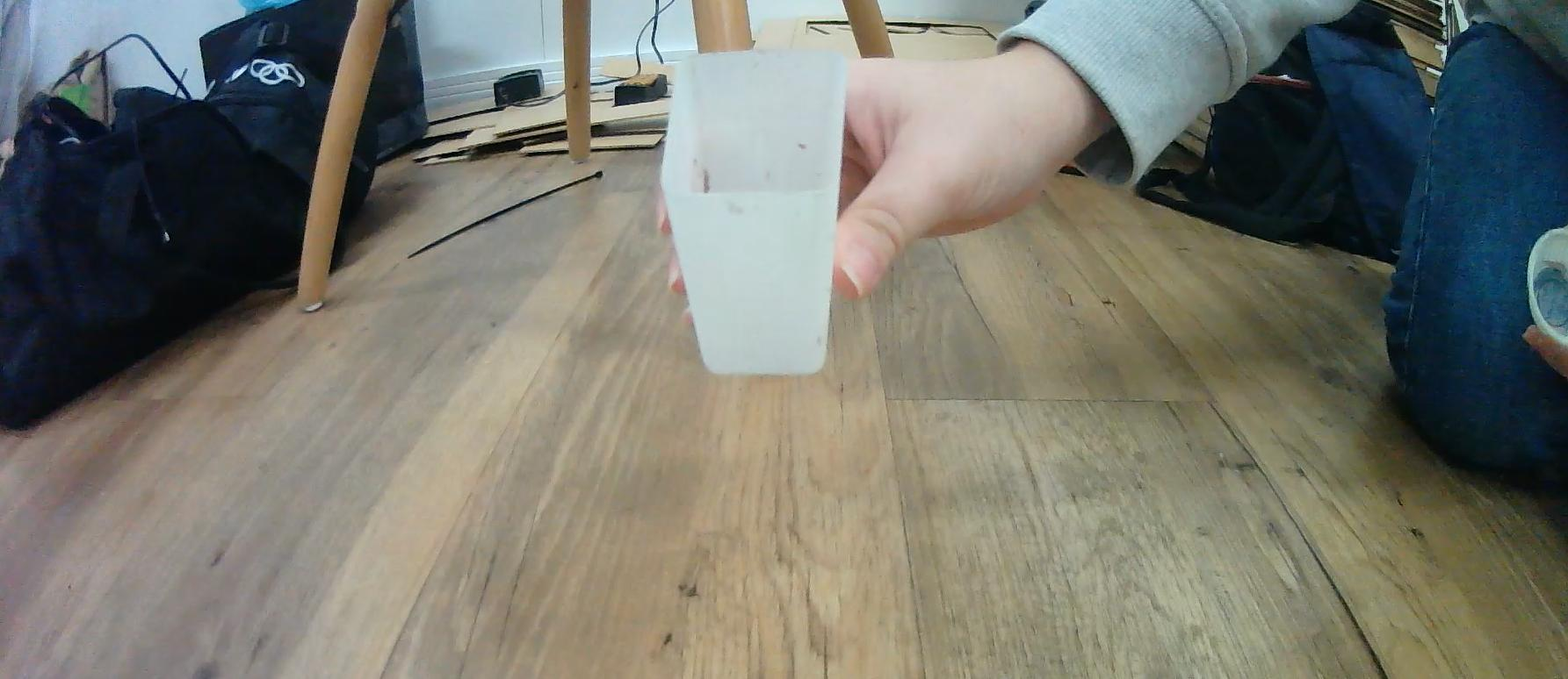erva_daninha: (659, 48, 847, 378)
planta: (1526, 224, 1568, 350)
